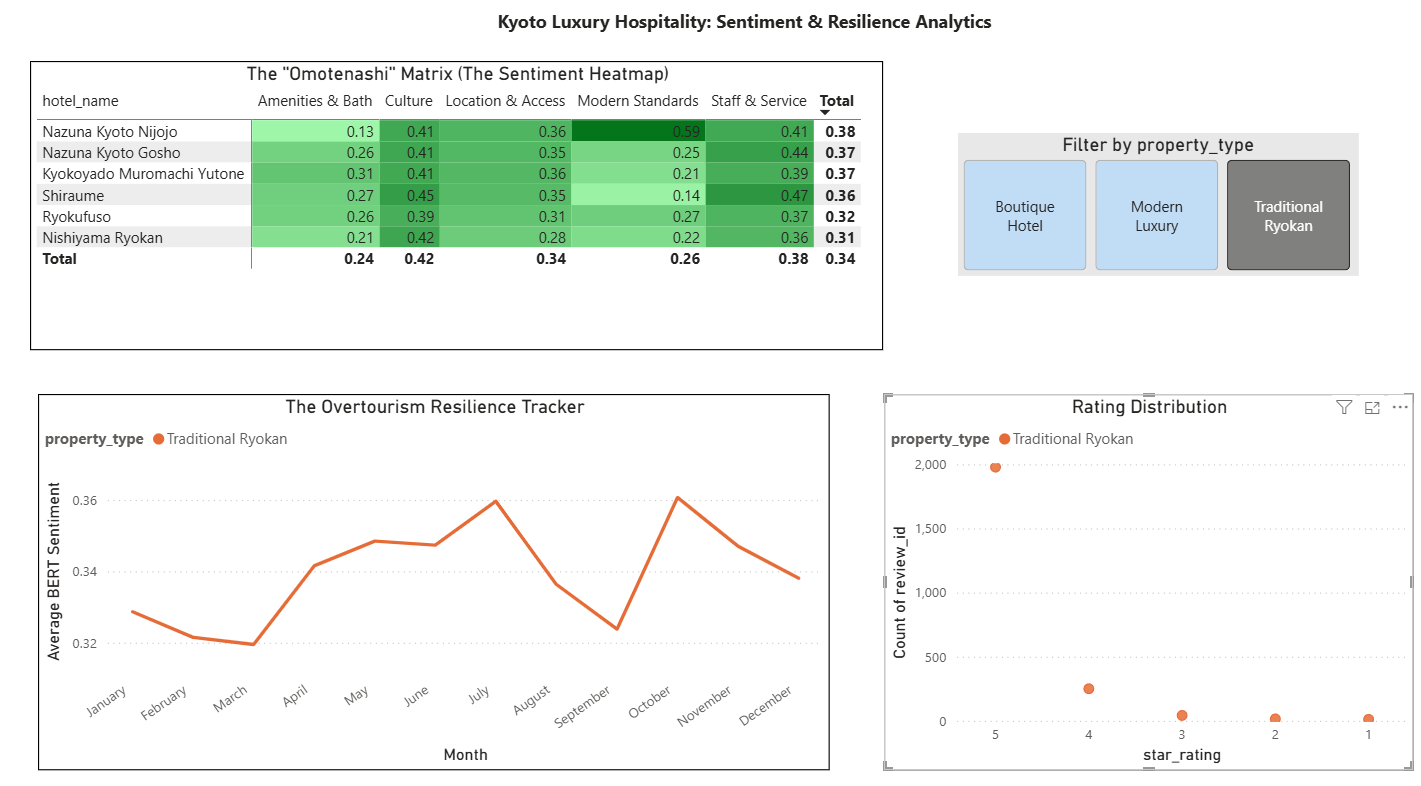

Layout of this report page (visuals, bound fields, positions):
{"tool":"powerbi","page":{"name":"Page 1","canvas":[1280,720],"ordinal":0},"visuals":[{"type":"pivotTable","title":"The \"Omotenashi\" Matrix (The Sentiment Heatmap)","fields":{"Rows":["public dim_hotels.hotel_name"],"Columns":["public dim_topics.topic_name"],"Values":["public fact_topic_sentiment.Average BERT Sentiment"]},"box":[30.8,61.5,763.5,258.8],"z":0},{"type":"lineChart","title":"The Overtourism Resilience Tracker","fields":{"Category":["public fact_reviews.review_date.Variation.Date Hierarchy.Month"],"Y":["public fact_topic_sentiment.Average BERT Sentiment"],"Series":["public dim_hotels.property_type"]},"box":[37.8,359.6,708.9,337],"z":1000},{"type":"scatterChart","title":"Rating Distribution","fields":{"X":["public fact_reviews.star_rating"],"Y":["public fact_reviews.review_id"],"Series":["public dim_hotels.property_type"]},"box":[794.8,359.6,473.9,337],"z":2000},{"type":"textbox","box":[444.3,9.5,478.3,43.5],"z":3000},{"type":"advancedSlicerVisual","title":"Filter by property_type","fields":{"Values":["public dim_hotels.property_type"]},"box":[861.8,126.5,358.7,128.4],"z":3001}]}

Visuals, with their boxes in screenshot pixels (x1, y1, x2, y2), scaled from the page's 1280x720 canvas onto the 1421x786 screenshot:
"The "Omotenashi" Matrix (The Sentiment Heatmap)" pivotTable: {"x1": 34, "y1": 67, "x2": 882, "y2": 350}
"The Overtourism Resilience Tracker" lineChart: {"x1": 42, "y1": 393, "x2": 829, "y2": 760}
"Rating Distribution" scatterChart: {"x1": 882, "y1": 393, "x2": 1408, "y2": 760}
textbox: {"x1": 493, "y1": 10, "x2": 1024, "y2": 58}
"Filter by property_type" advancedSlicerVisual: {"x1": 957, "y1": 138, "x2": 1355, "y2": 278}
